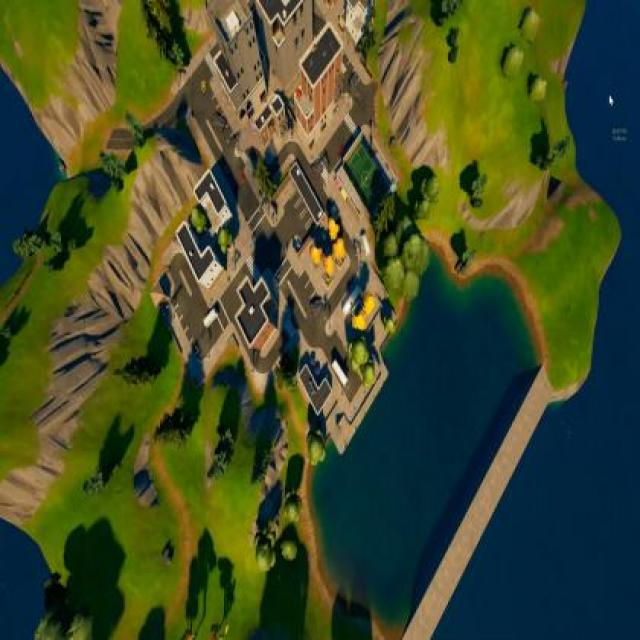tank: (210, 110, 226, 134), (309, 153, 323, 178), (354, 82, 366, 111), (309, 299, 322, 317)
